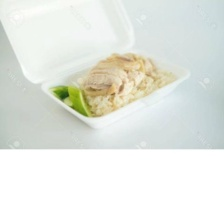foam_box: (0, 0, 196, 133)
